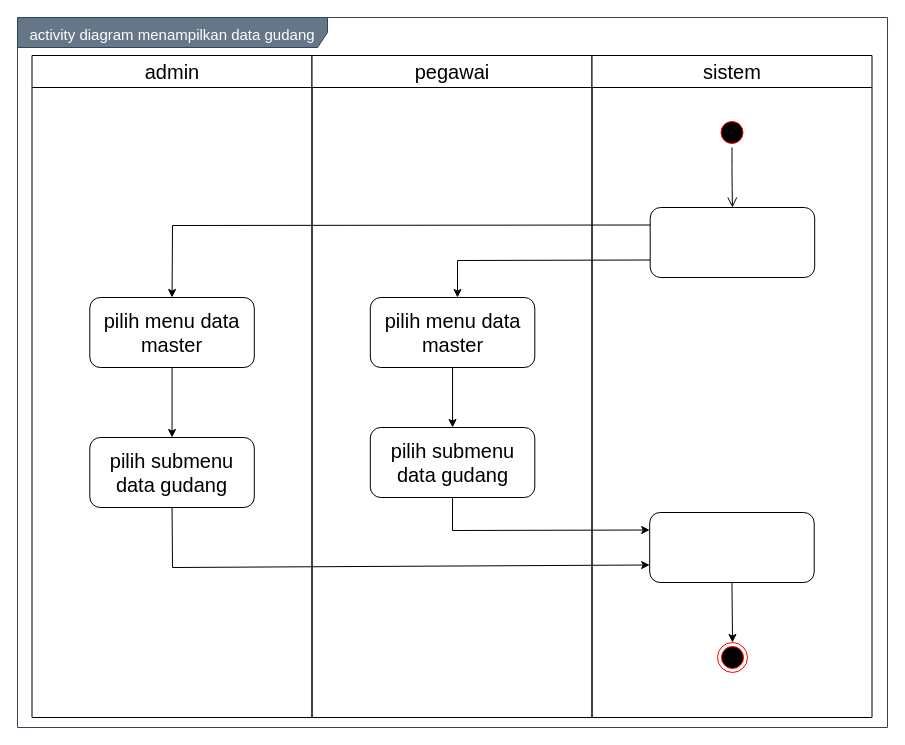
This 905x745 diagram has some shape labels left out. The shapes that lost their labels are listed below. From the top down, each one's centre as x and y in pixels, then its label:
At point 732,242: "menampilkan dashboard sesuai rolenya".
At point 731,547: "menampilkan data gudang".
